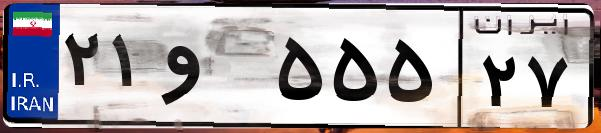1: (110, 28, 158, 98)
2: (57, 26, 110, 100), (475, 38, 525, 113)
5: (270, 28, 330, 110), (385, 28, 445, 110), (330, 28, 385, 110)
7: (525, 38, 570, 115)
و: (158, 20, 270, 120)
